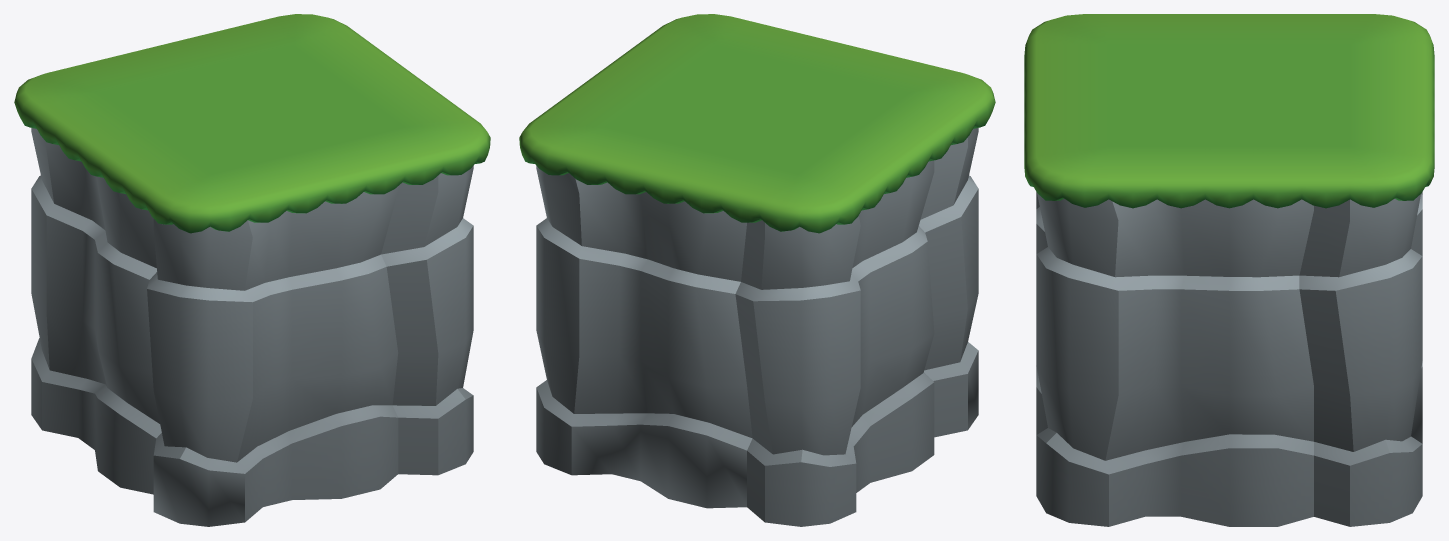
File: Hill_8x8x8_Color1.gltf
3 views of the same model, side by side, from view 1: azimuth 30°, elevation 25°; view 2: azimuth 150°, elevation 25°; view 3: azimuth 270°, elevation 25° (orthographic). The views are drawn at different scales.
Parts seen in each view (by area): view 1: Hill_8x8x8_Color1; view 2: Hill_8x8x8_Color1; view 3: Hill_8x8x8_Color1.
Boxes of the visible parts, box(x1,y1,x2,y2) form: Hill_8x8x8_Color1: box(14, 14, 490, 526); Hill_8x8x8_Color1: box(519, 14, 995, 526); Hill_8x8x8_Color1: box(1024, 14, 1434, 526).
Bounding box in the file's own units: 8.5 × 8 × 8.5.
1 material, 1 textured.
